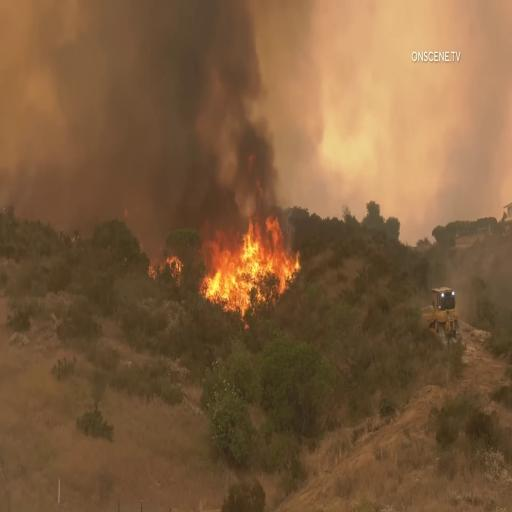fire: (199, 201, 298, 314)
smoke: (143, 8, 218, 214), (209, 19, 282, 167)
